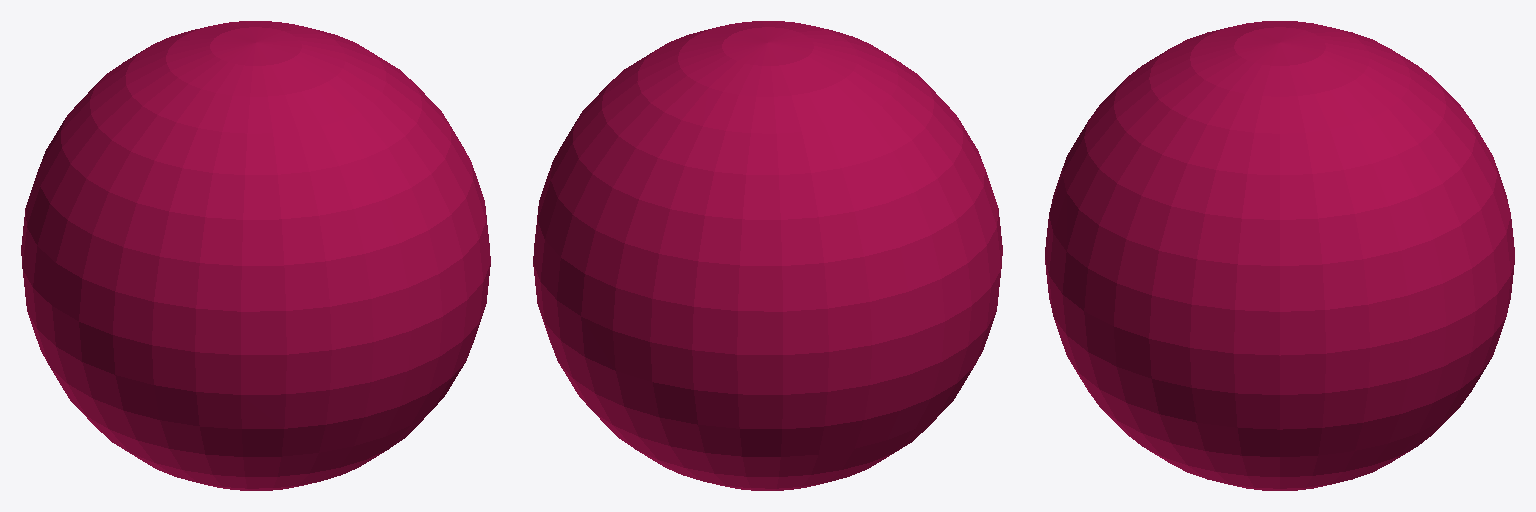
The model's file is Sun.obj.
3 views of the same model, side by side, from view 1: azimuth 30°, elevation 25°; view 2: azimuth 150°, elevation 25°; view 3: azimuth 270°, elevation 25° (orthographic).
Visible parts, largest first — view 1: Sphere001; view 2: Sphere001; view 3: Sphere001.
Boxes of the visible parts, box(x1,y1,x2,y2) form: Sphere001: box(21, 21, 490, 490); Sphere001: box(533, 21, 1002, 490); Sphere001: box(1045, 21, 1514, 490).
Bounding box in the file's own units: 10 × 10 × 10.